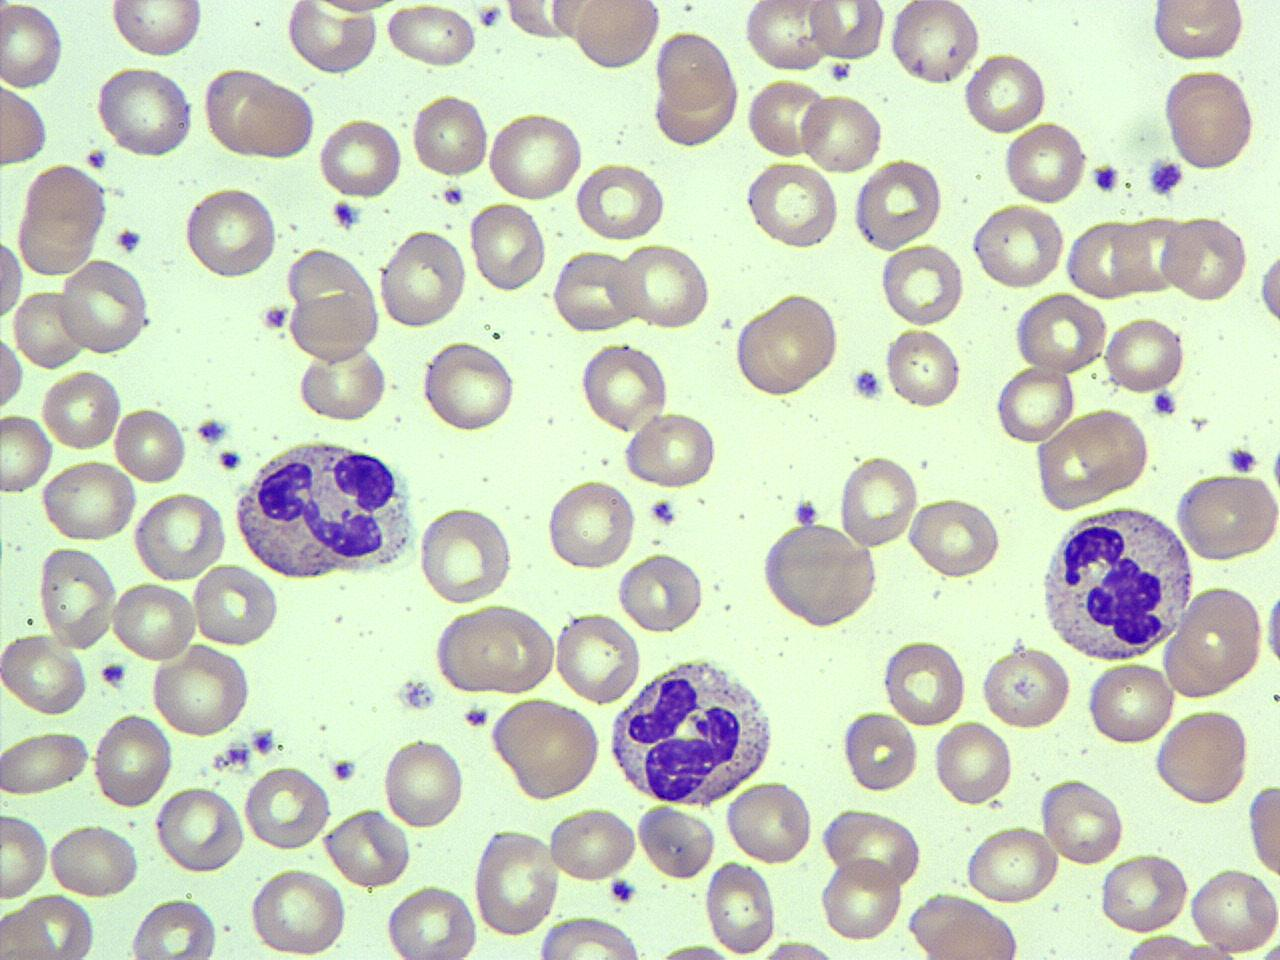Platelets: (1260, 583, 1280, 674), (1145, 156, 1185, 197), (396, 674, 437, 713), (850, 364, 884, 404), (1224, 445, 1258, 476), (194, 416, 230, 446), (1089, 162, 1121, 195), (259, 302, 291, 332), (114, 225, 146, 255), (1267, 435, 1280, 508), (330, 198, 359, 229), (792, 497, 821, 528), (1151, 388, 1179, 419), (224, 736, 252, 766), (608, 876, 638, 905), (249, 726, 276, 756), (475, 4, 506, 30), (329, 756, 359, 783), (648, 497, 676, 524), (99, 661, 128, 687), (216, 447, 243, 472), (462, 704, 490, 728), (233, 733, 256, 761), (85, 146, 111, 170), (826, 61, 852, 83), (441, 186, 465, 207)
RBC: (758, 520, 881, 630), (490, 694, 604, 802), (1159, 584, 1265, 699), (734, 289, 844, 399), (432, 602, 556, 696), (1160, 66, 1260, 174), (14, 162, 109, 275), (470, 824, 562, 936), (149, 639, 252, 740), (1171, 470, 1279, 564), (1152, 706, 1252, 806), (416, 504, 516, 604), (375, 226, 469, 331), (180, 183, 279, 281), (418, 340, 520, 436), (93, 64, 196, 158), (57, 254, 150, 357), (246, 865, 349, 958), (214, 72, 318, 162), (485, 111, 587, 203), (970, 201, 1069, 292), (612, 242, 714, 331), (544, 476, 638, 572), (820, 804, 926, 888), (552, 608, 642, 708), (744, 160, 842, 251), (35, 544, 118, 650), (577, 340, 670, 434), (851, 156, 945, 249), (131, 490, 227, 582), (282, 246, 379, 336), (91, 709, 175, 811), (40, 458, 140, 544), (724, 776, 816, 868), (1186, 865, 1280, 956), (978, 644, 1074, 732), (906, 494, 1004, 580), (620, 408, 720, 492), (155, 784, 246, 875), (962, 824, 1063, 906), (837, 451, 920, 550), (1039, 776, 1129, 867), (1012, 290, 1107, 376), (382, 735, 467, 831), (1085, 658, 1175, 748), (888, 0, 982, 86), (616, 548, 703, 638), (907, 892, 1024, 960), (242, 762, 332, 850), (467, 198, 548, 293), (881, 636, 968, 726), (818, 854, 904, 945), (110, 578, 201, 664), (0, 630, 88, 718), (1002, 118, 1089, 207), (1162, 214, 1248, 304), (549, 250, 640, 335), (1099, 852, 1191, 935), (46, 820, 142, 899), (193, 561, 279, 648), (703, 858, 779, 958), (317, 115, 404, 202), (322, 806, 412, 888), (573, 161, 667, 241), (1070, 406, 1152, 497), (410, 90, 491, 182), (295, 344, 388, 424), (879, 242, 966, 327), (1064, 217, 1152, 301), (382, 883, 478, 960), (882, 323, 964, 412), (546, 804, 638, 883), (798, 91, 884, 175), (962, 51, 1047, 135), (1102, 313, 1186, 396), (992, 363, 1078, 445), (932, 719, 1013, 807), (283, 1, 379, 75), (744, 78, 826, 161), (39, 368, 121, 453), (840, 708, 919, 794), (742, 0, 833, 74), (655, 28, 735, 112), (636, 800, 718, 880), (111, 404, 190, 486), (0, 0, 69, 94), (574, 0, 662, 73), (0, 727, 90, 798), (2, 894, 98, 960), (11, 287, 85, 372), (381, 3, 477, 68), (652, 77, 738, 148), (127, 895, 221, 960), (1147, 1, 1247, 62), (107, 0, 206, 61), (805, 0, 887, 61), (0, 410, 56, 497), (534, 914, 644, 958), (0, 808, 52, 901), (0, 81, 51, 169), (500, 0, 592, 43), (1246, 774, 1280, 882), (0, 225, 24, 329), (1256, 240, 1280, 336), (0, 326, 25, 415)
WBC: (232, 433, 420, 586), (604, 652, 780, 810), (1035, 501, 1197, 665)
